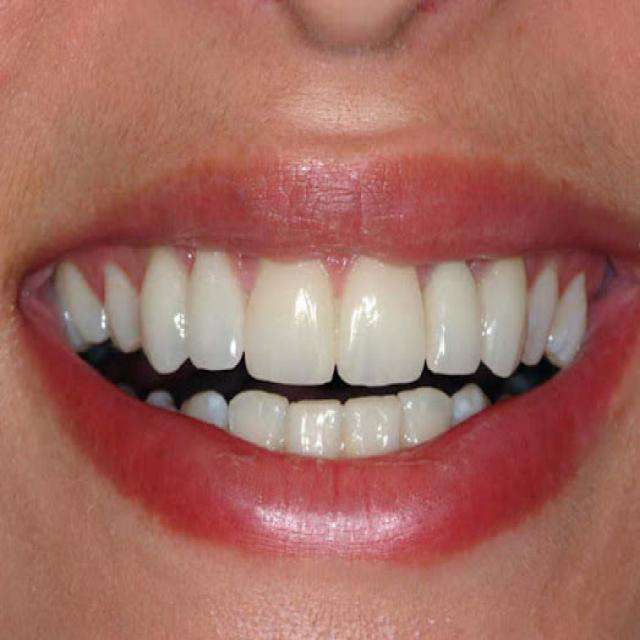tooth: (248, 237, 326, 378), (416, 244, 483, 371), (344, 258, 416, 372), (188, 252, 244, 368), (519, 249, 568, 365), (341, 394, 399, 456), (284, 394, 341, 456), (134, 270, 180, 337), (492, 254, 516, 365), (50, 270, 99, 321), (395, 396, 452, 436), (108, 280, 134, 350), (241, 393, 284, 432), (169, 402, 219, 420)
